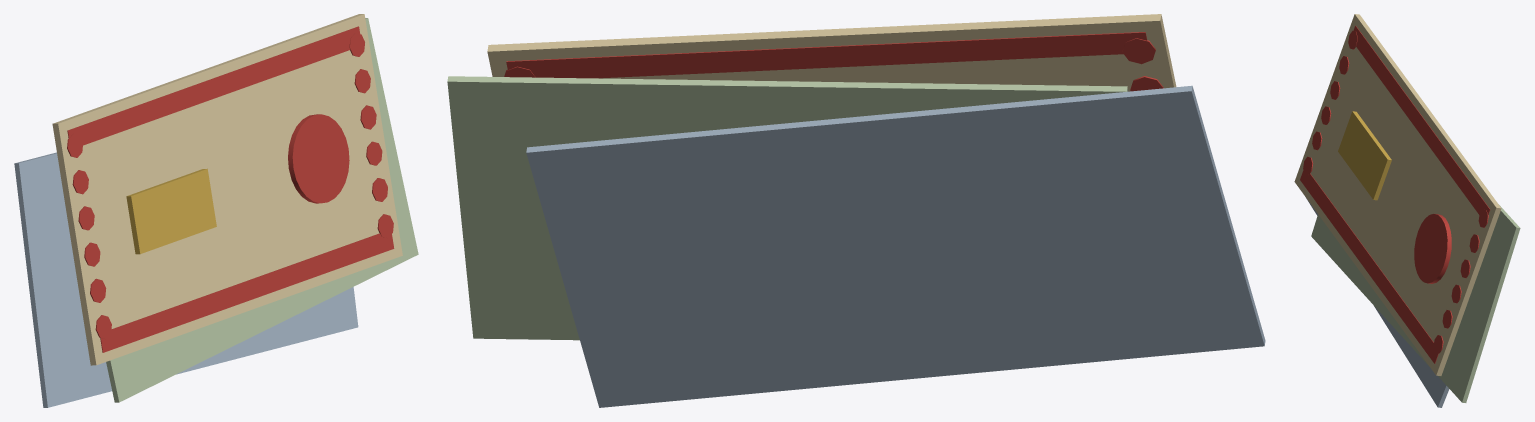
The model's file is ration_coupon.glb.
3 views of the same model, side by side, from view 1: azimuth 30°, elevation 25°; view 2: azimuth 150°, elevation 25°; view 3: azimuth 270°, elevation 25° (orthographic). The views are drawn at different scales.
Size of the model in its own units: 1.1 by 0.7347 by 0.5803.
